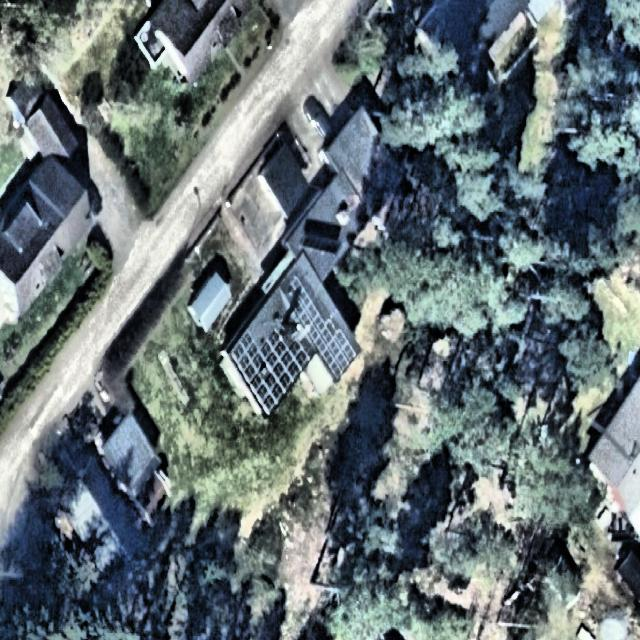roof_pv: (231, 327, 313, 414), (279, 270, 327, 336), (313, 317, 358, 384)
